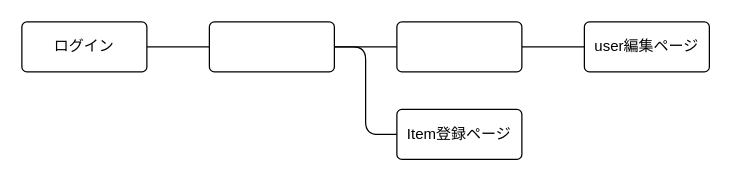
Some shapes in this 731 by 181 pixel diagram are drawn without their labels. The shapes that lost their labels are listed below. From the top down, each one's centre as x and y in pixels, then its label:
At (271,46): "一覧ページ".
At (459,46): "user詳細ページ".
